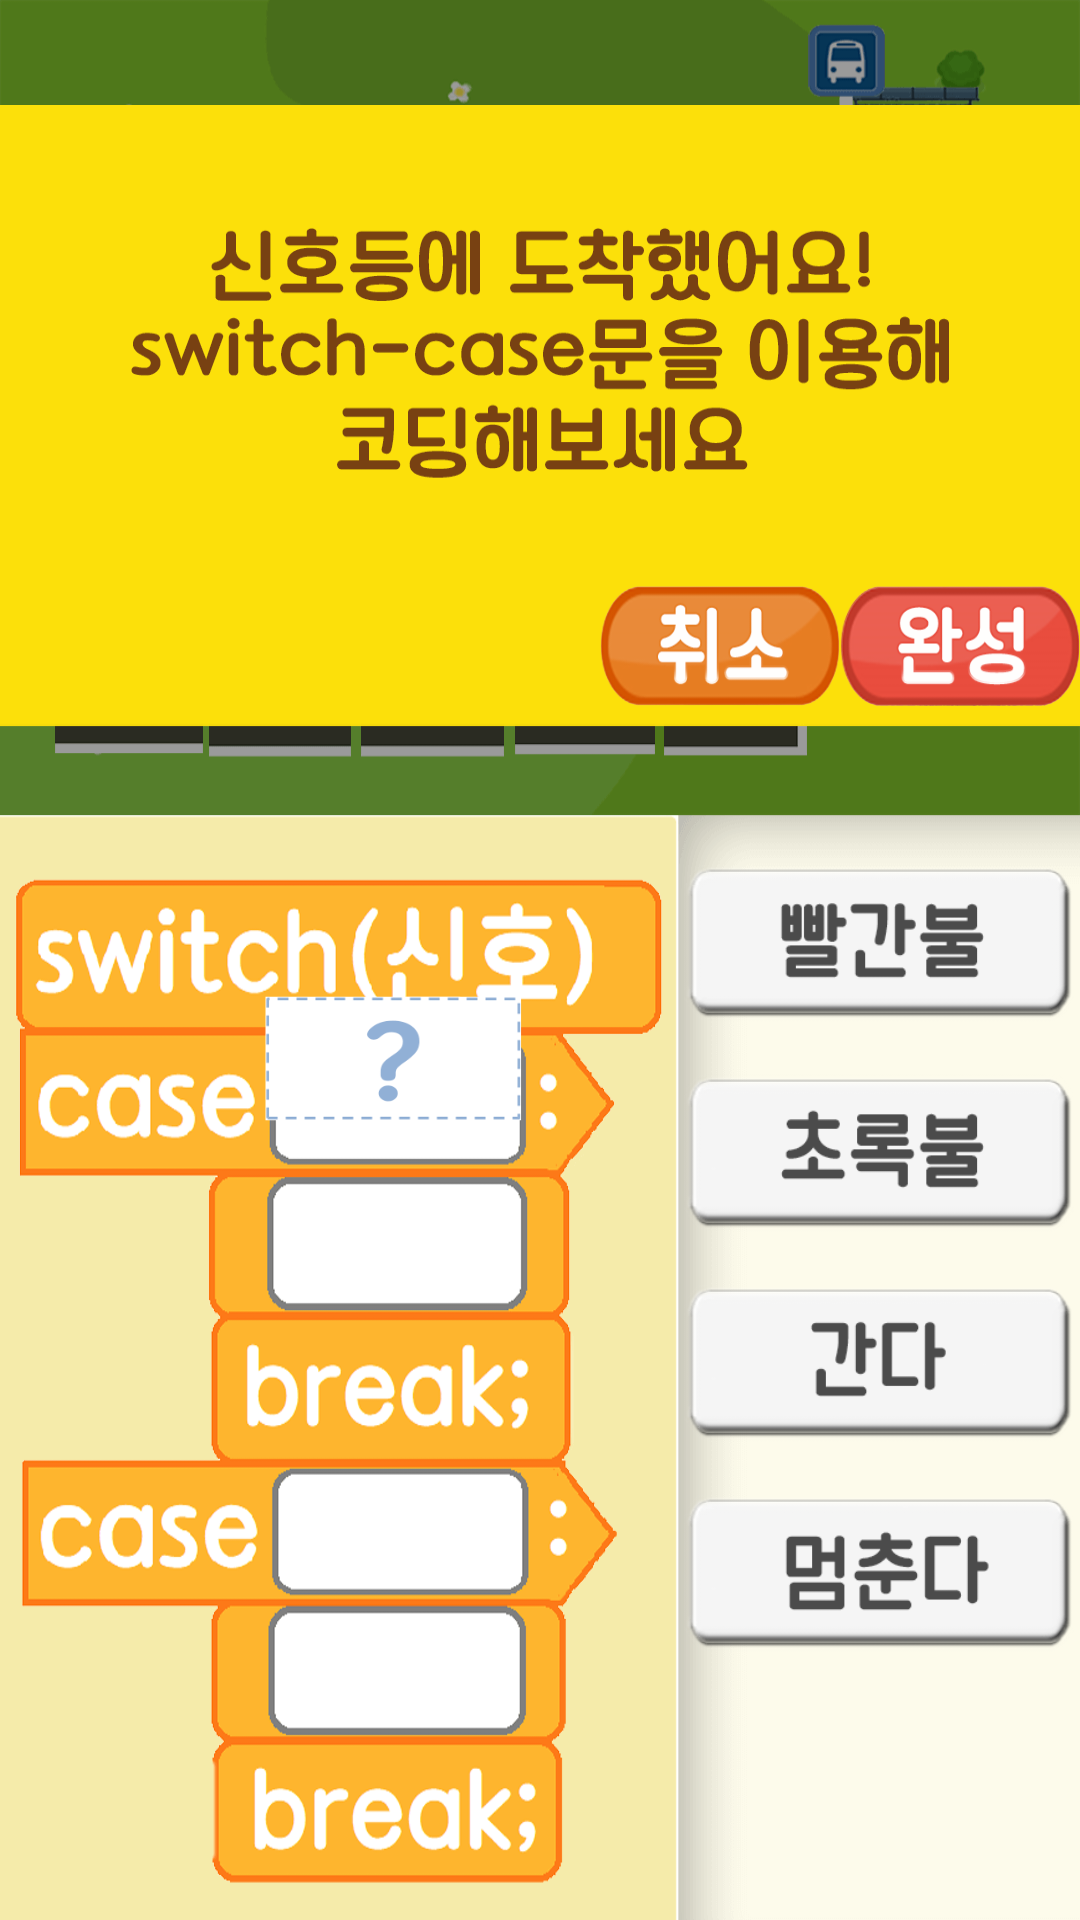

Screen size 1080w x 1920h. Icon name, then its center in pixels as (x,y):
question: (396,1058)
